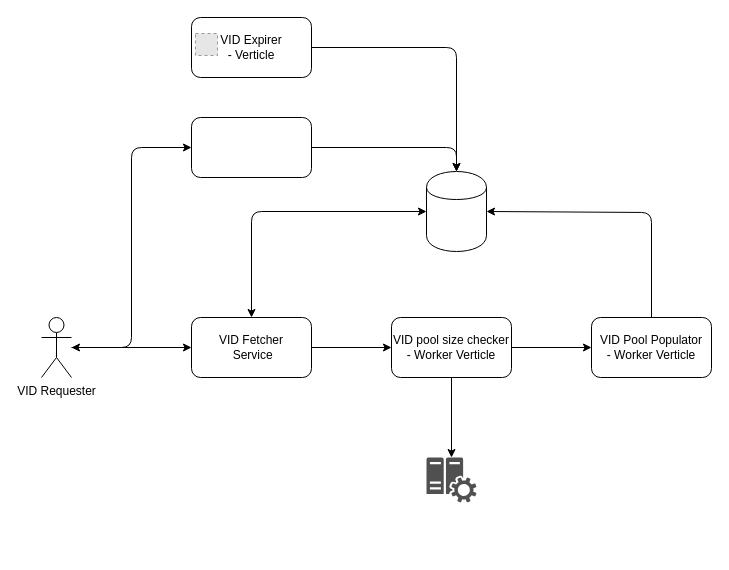
Some shapes in this 729 by 570 pixel diagram are drawn without their labels. Grey dashed boxes stand in for pictures. Here are the shapes that lost their labels. From the top down, the centre of each, then its label:
At (x=251, y=147): "VID Revoker Service".
At (x=456, y=211): "VID Pool".
At (x=451, y=479): "Configurations - Pool size - Shrink frequency".
